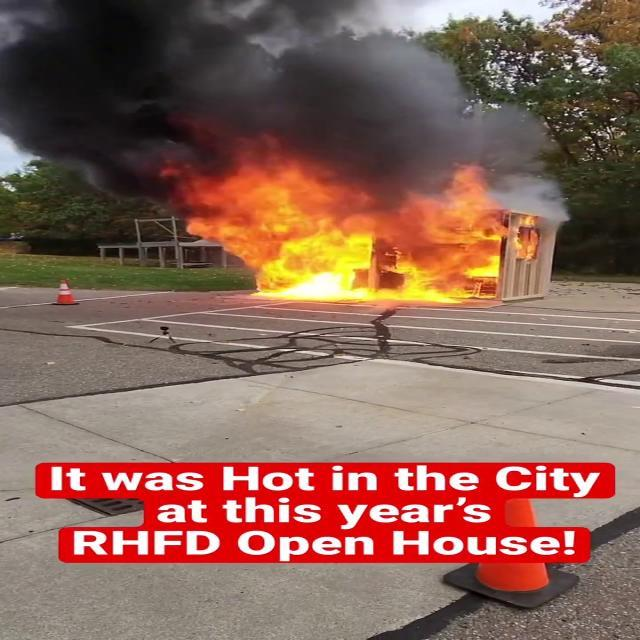Fire: (165, 164, 546, 312)
Smoke: (0, 0, 508, 196)
